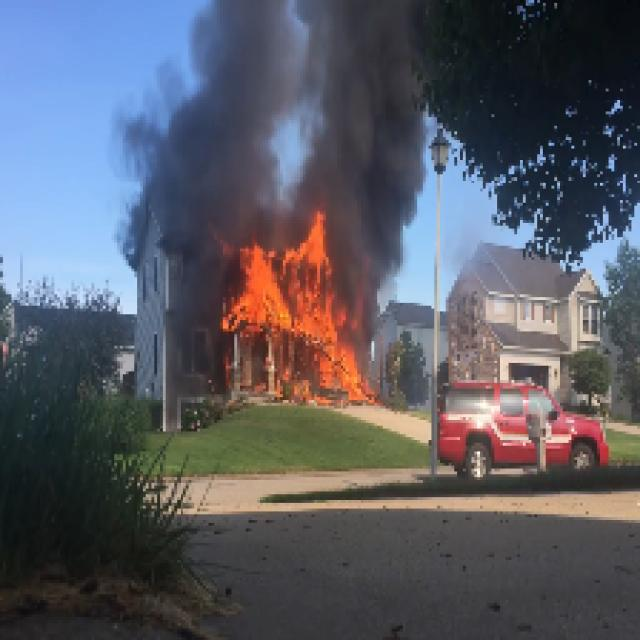Fire: (235, 250, 346, 380)
Smoke: (323, 8, 406, 255), (196, 1, 270, 220)
